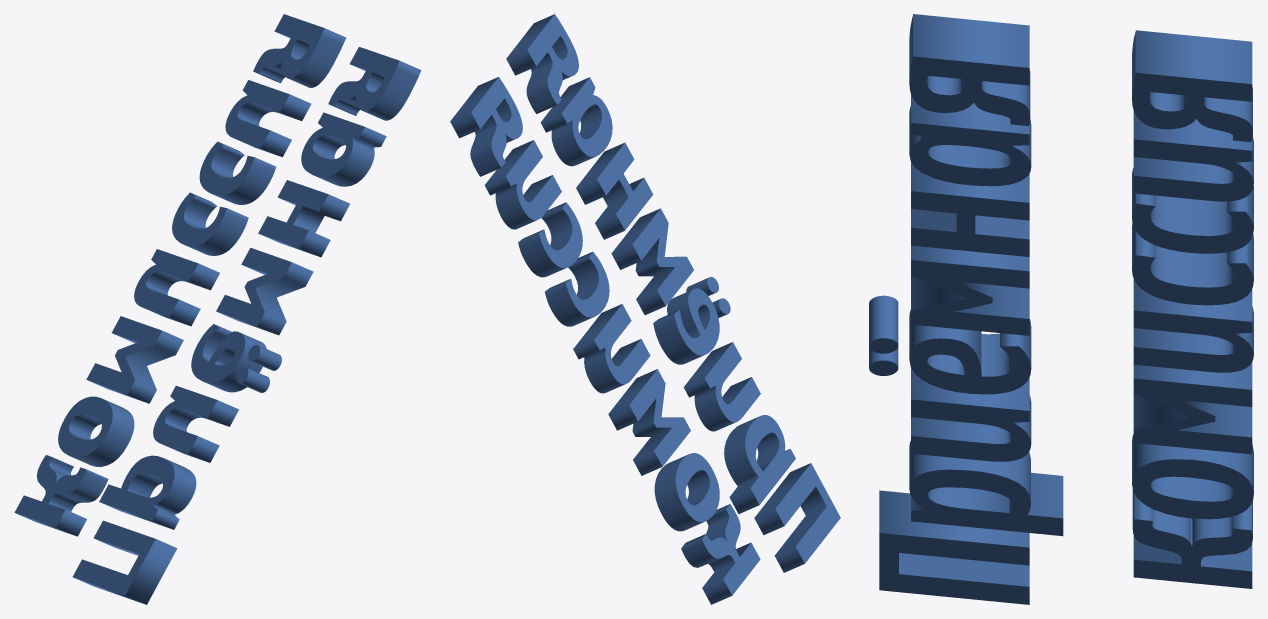
The model's file is priem.glb.
3 views of the same model, side by side, from view 1: azimuth 30°, elevation 25°; view 2: azimuth 150°, elevation 25°; view 3: azimuth 270°, elevation 25° (orthographic). The views are drawn at different scales.
Parts seen in each view (by area): view 1: Text.001; view 2: Text.001; view 3: Text.001.
Part boxes in pixels (x1,y1,x2,y2): Text.001: (14, 14, 421, 604); Text.001: (450, 14, 840, 604); Text.001: (869, 14, 1253, 604).
Bounding box in the file's own units: 2.84 × 4.19 × 1.8.
